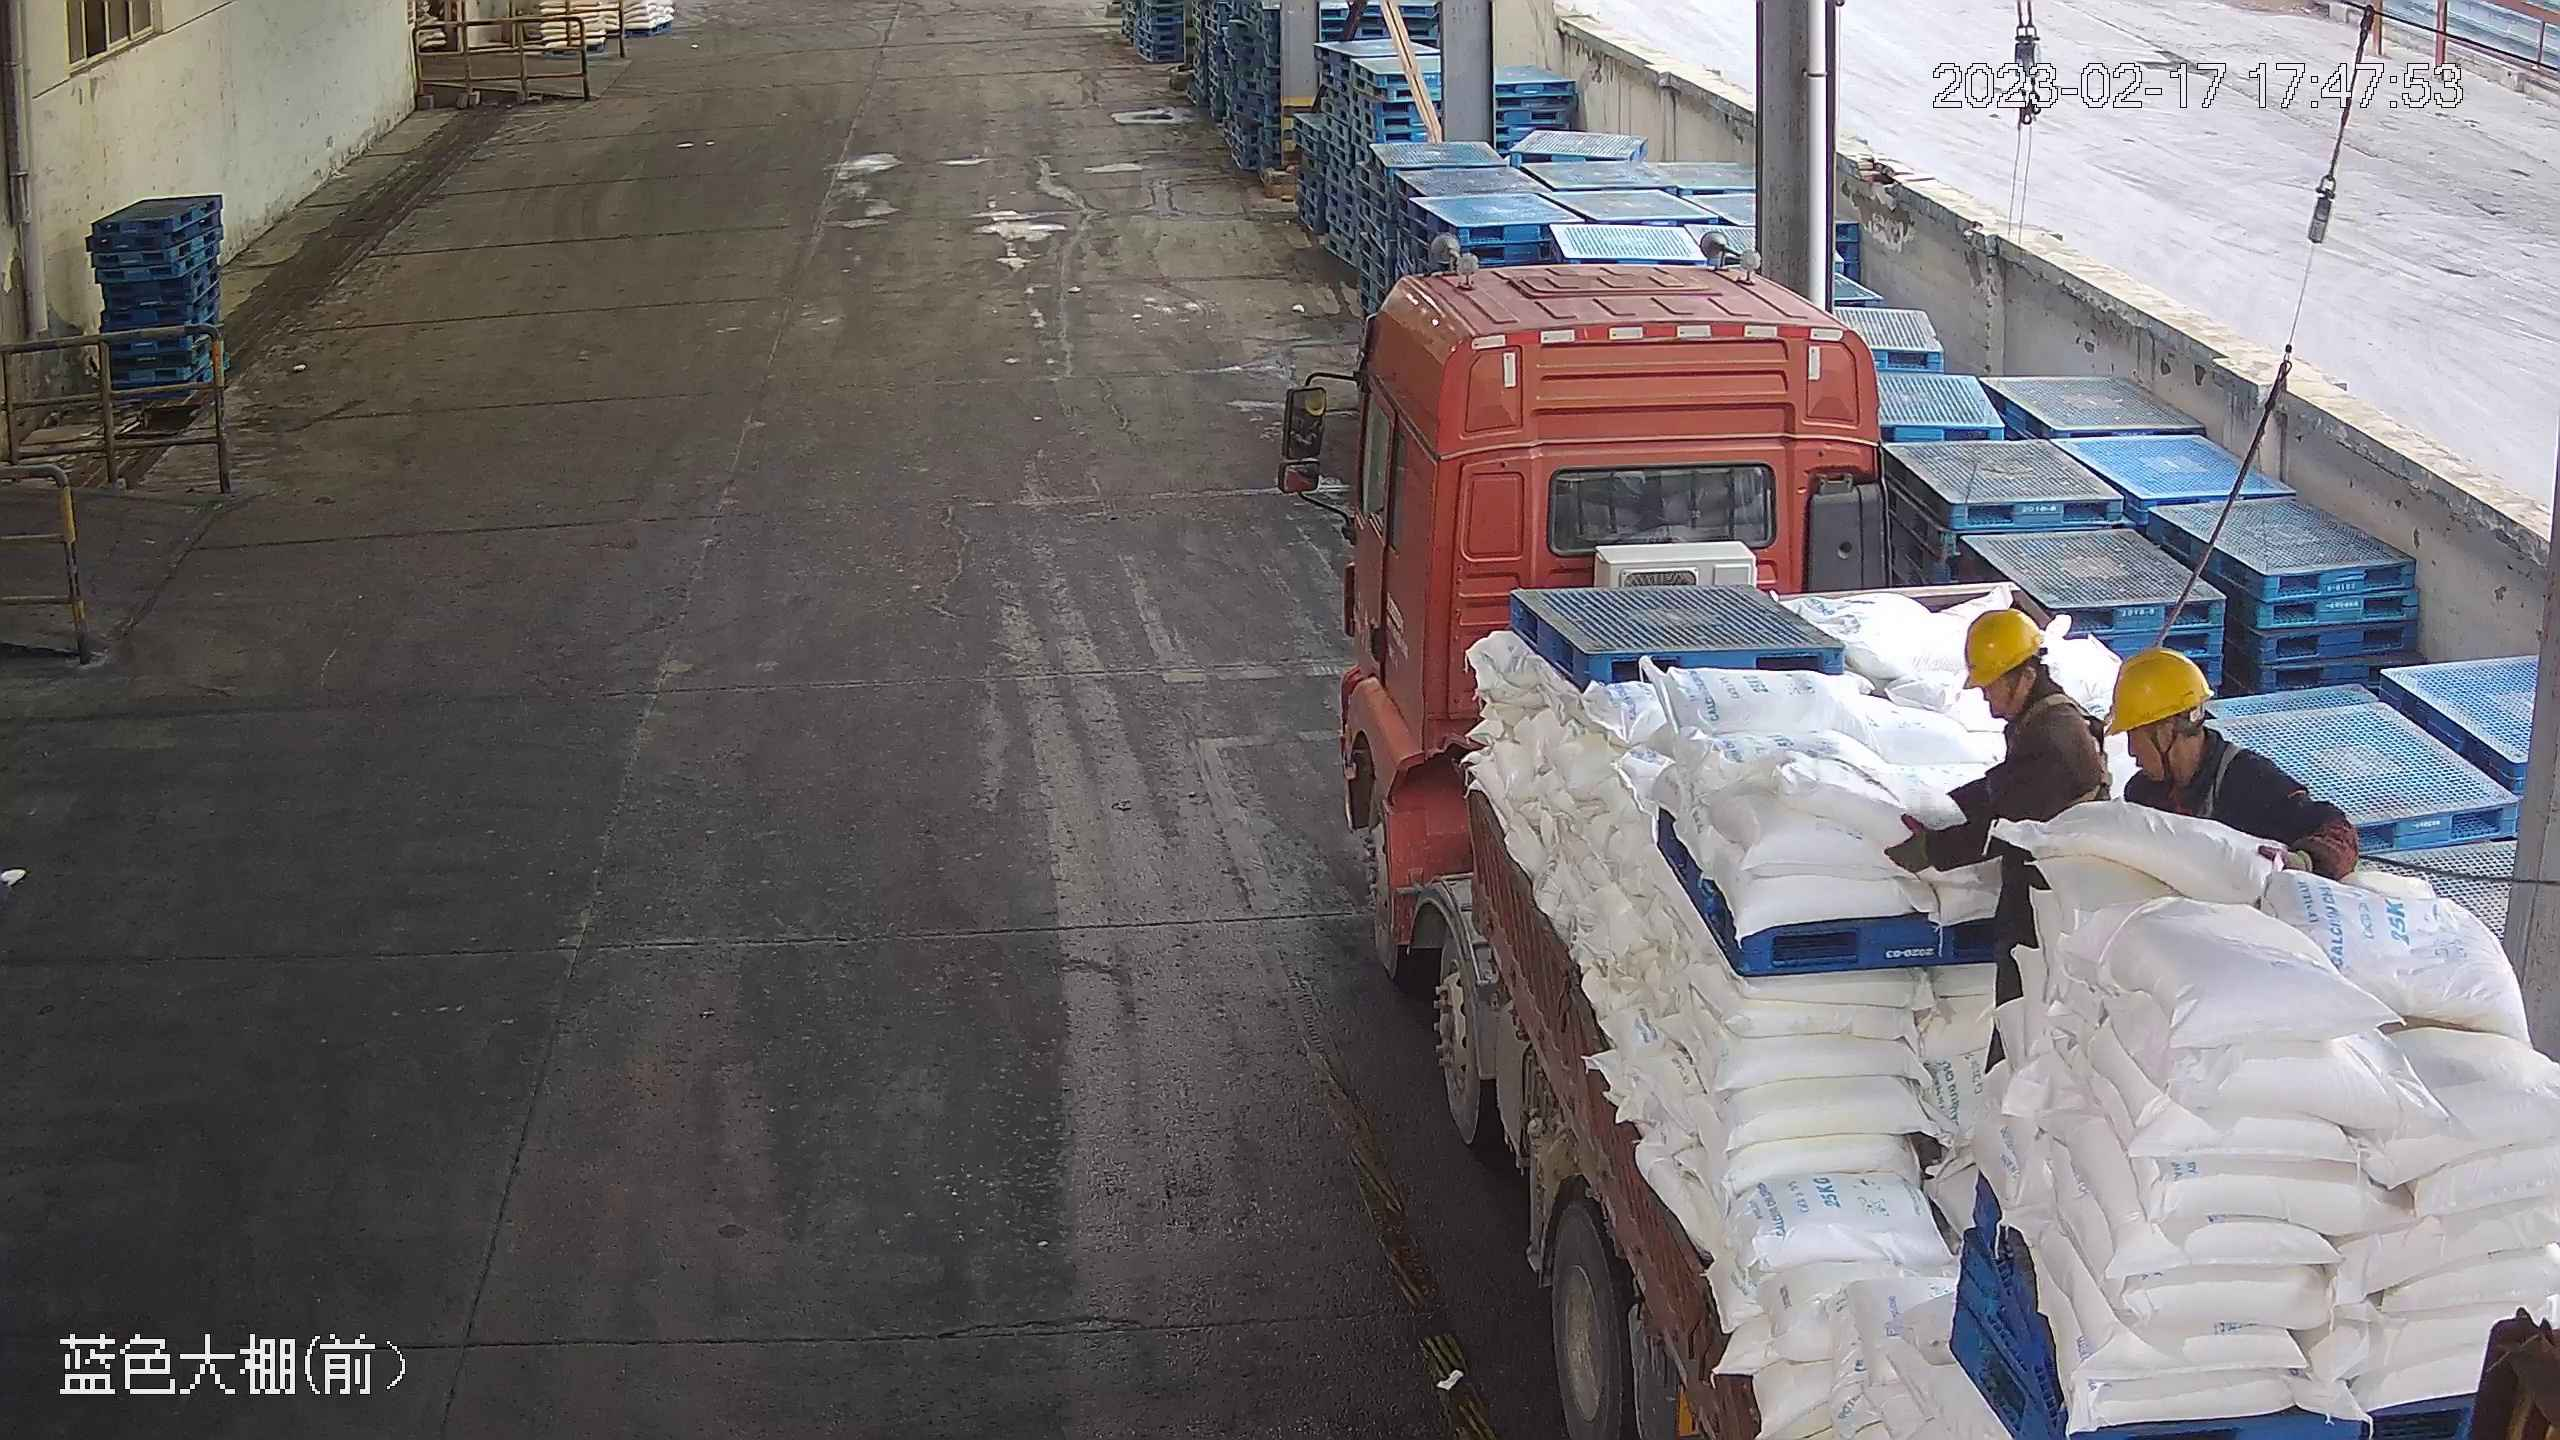belt: (2155, 736, 2240, 830), (2024, 697, 2117, 777)
head: (2105, 644, 2296, 816), (1955, 606, 2097, 765)
helmet: (2103, 643, 2214, 735), (1958, 605, 2047, 690)
truck: (1271, 255, 2560, 1440)
